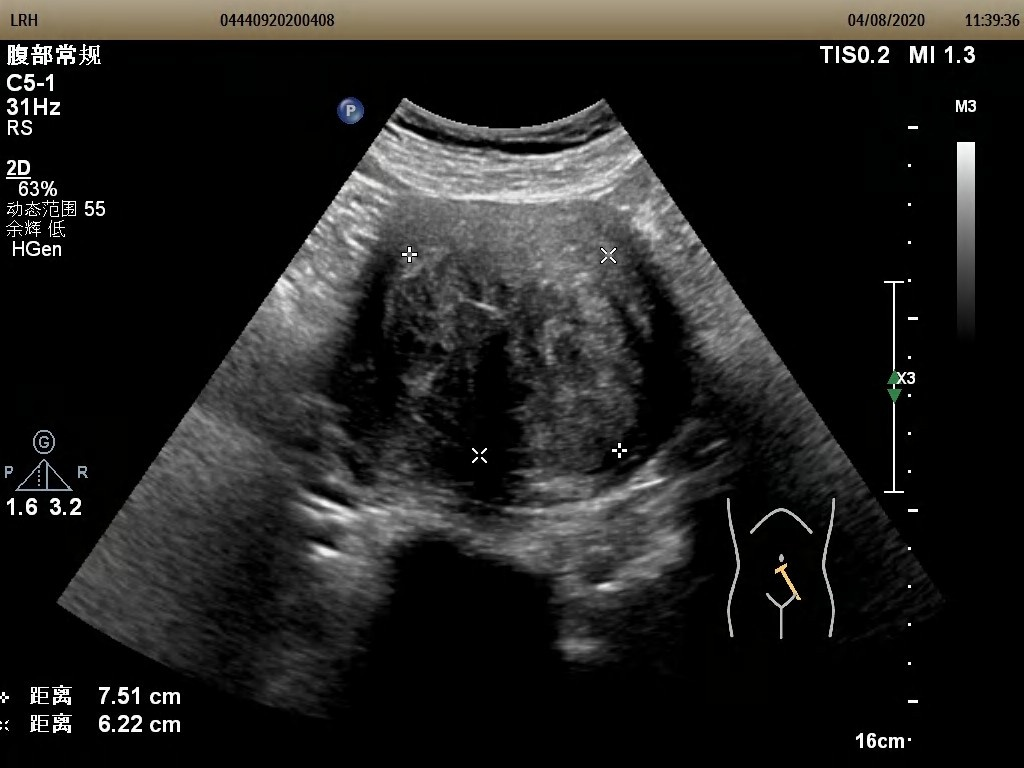肌瘤: (408, 254, 628, 454)
